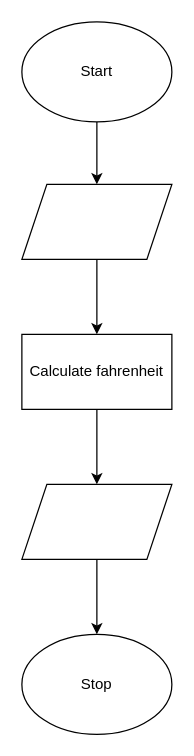
Image size: 194x756. Some labels were removed from this diagram. The shapes that lost their labels are listed below. From the top down, each one's box as (x1, y1, x2, y2) in pixels, then its label:
(21, 183, 172, 259): Get temperature in celsuis
(21, 483, 172, 559): Show temperature in fahrenheit
